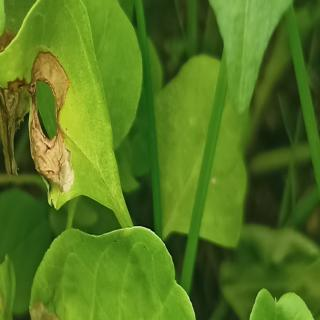kekurangan_mangan: (0, 0, 122, 219), (24, 209, 204, 320)
